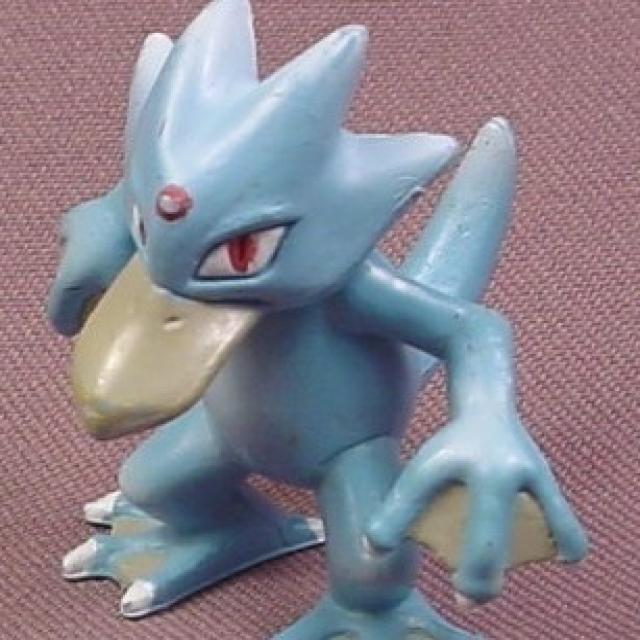Golduck: (45, 0, 536, 640)
